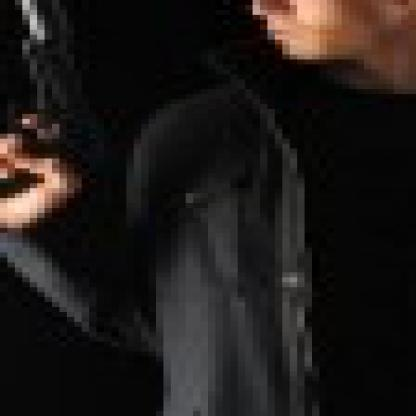gun: (0, 0, 112, 219)
